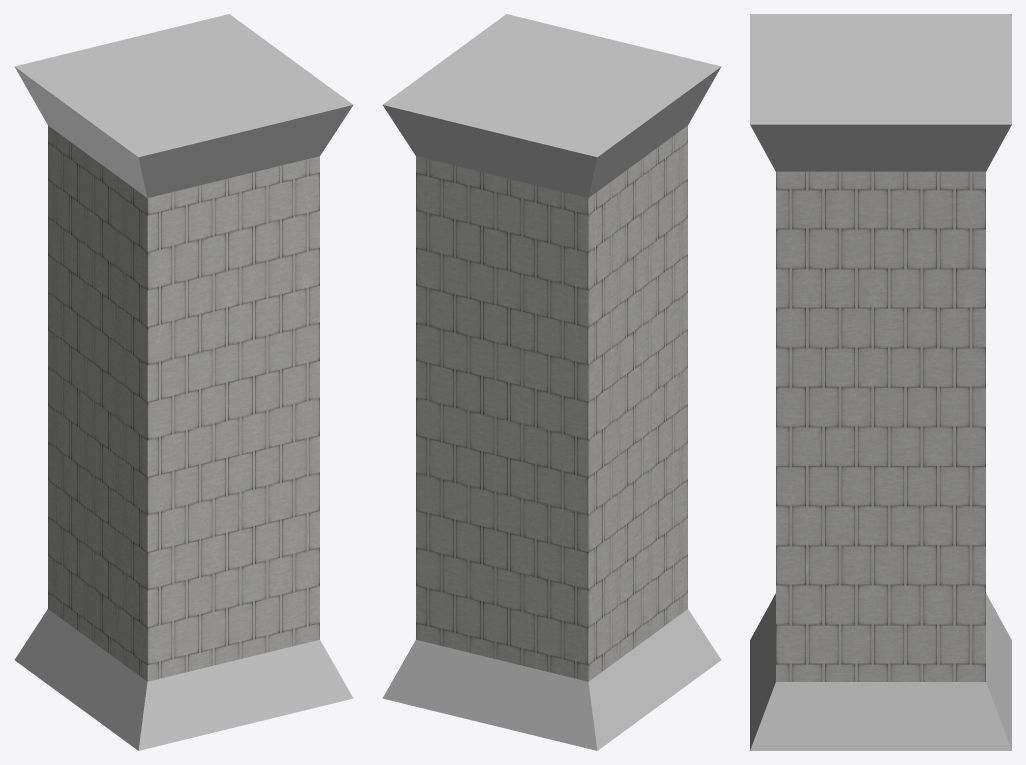
Rendered from wall.obj.
The picture shows the model from 3 angles, left to right: view 1: azimuth 30°, elevation 25°; view 2: azimuth 150°, elevation 25°; view 3: azimuth 270°, elevation 25°; orthographic projection. The views are drawn at different scales.
Parts seen in each view (by area): view 1: Cube; view 2: Cube; view 3: Cube.
Boxes of the visible parts, x1,y1,x2,y2 form: Cube: (14, 14, 353, 750); Cube: (382, 14, 721, 750); Cube: (750, 14, 1011, 750).
Size of the model in its own units: 2.49 by 6.57 by 2.49.
Materials: 2 (1 with a texture image).
